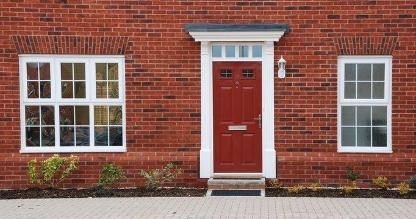door: (199, 37, 271, 182)
